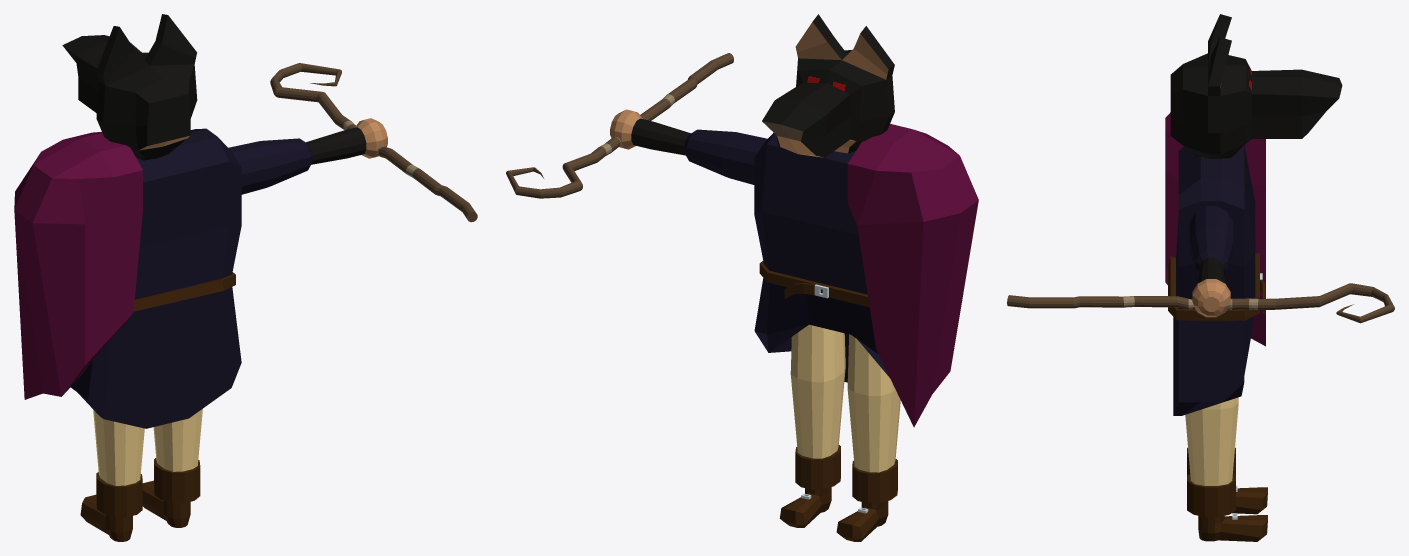
The model's file is hound_wizard.gltf.
3 views of the same model, side by side, from view 1: azimuth 30°, elevation 25°; view 2: azimuth 150°, elevation 25°; view 3: azimuth 270°, elevation 25° (orthographic).
Visible parts, largest first — view 1: torso, cloak, head, staff, right_sleeve, left_calve, left_boot, right_boot, right_wrist, right_calve; view 2: cloak, torso, head, right_calve, left_calve, staff, right_sleeve, left_boot, right_boot, right_thigh, right_wrist, left_thigh; view 3: torso, head, staff, cloak, right_calve, right_boot, right_sleeve, right_wrist, left_boot.
Boxes of the visible parts, x1,y1,x2,y2 form: torso: (70,128,241,428); cloak: (14,131,142,399); head: (62,14,197,160); staff: (270,63,477,222); right_sleeve: (228,138,312,194); left_calve: (93,409,144,485); left_boot: (80,472,142,541); right_boot: (142,458,200,527); right_wrist: (306,118,387,164); right_calve: (153,409,202,471); cloak: (847,123,978,427); torso: (754,132,889,382); head: (762,14,894,157); right_calve: (790,367,845,458); left_calve: (847,388,900,472); staff: (506,53,733,198); right_sleeve: (684,129,767,184); left_boot: (836,459,897,541); right_boot: (779,445,840,527); right_thigh: (790,324,845,382); right_wrist: (610,109,690,155); left_thigh: (847,334,895,396); torso: (1168,145,1265,415); head: (1170,14,1342,158); staff: (1007,283,1394,323); cloak: (1165,112,1265,346); right_calve: (1185,403,1238,485); right_boot: (1187,474,1267,541); right_sleeve: (1189,206,1233,274); right_wrist: (1192,257,1230,317); left_boot: (1187,447,1267,514).
Size of the model in its own units: 2.57 by 3.15 by 2.22.
Materials: 1 (1 with a texture image).
